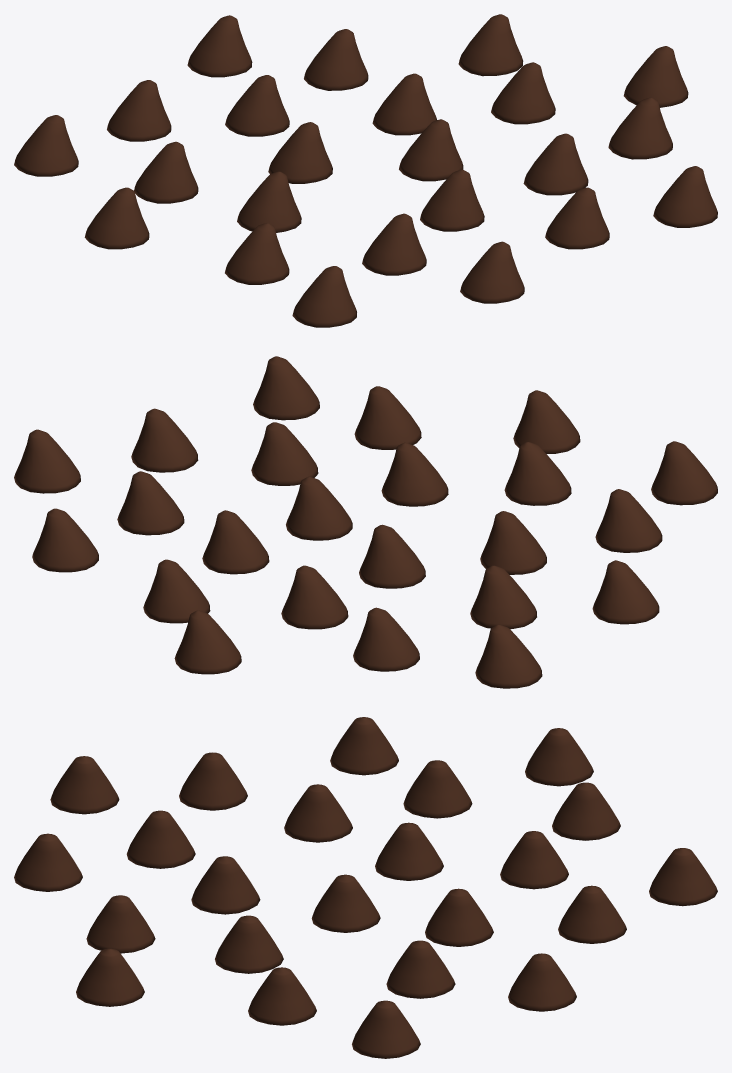
Rendered from savory-chocolate-chips.glb.
3 views of the same model, one above another, from view 1: azimuth 30°, elevation 25°; view 2: azimuth 150°, elevation 25°; view 3: azimuth 270°, elevation 25° (orthographic). The views are drawn at different scales.
Parts seen in each view (by area): view 1: savory-chocolate-chips; view 2: savory-chocolate-chips; view 3: savory-chocolate-chips.
Boxes of the visible parts, left/top/right/bottom form: savory-chocolate-chips: left=14, top=14, right=717, bottom=327; savory-chocolate-chips: left=14, top=356, right=717, bottom=688; savory-chocolate-chips: left=14, top=717, right=717, bottom=1058.
Size of the model in its own units: 1.35 by 0.0982 by 1.28.
